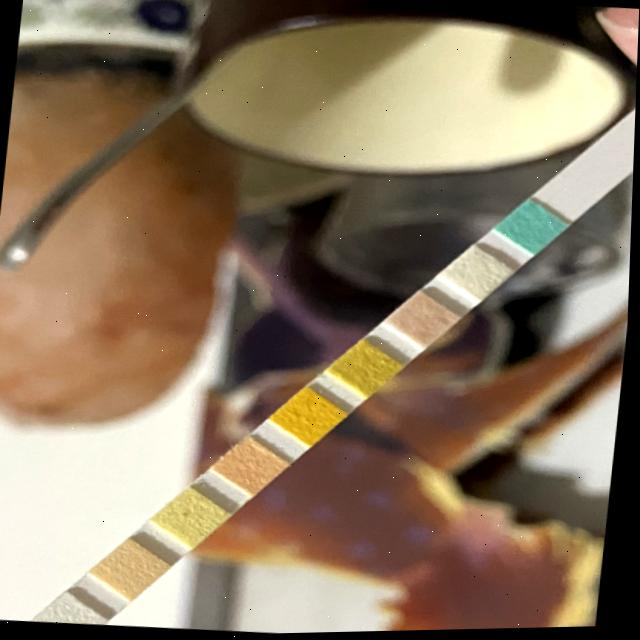Bilirubin: (453, 258, 502, 286)
Blood: (285, 402, 336, 432)
Glucose: (506, 212, 554, 242)
Ketone: (401, 306, 445, 336)
Nitrite: (45, 607, 95, 625)
Protein: (169, 502, 216, 532)
SpGravity: (344, 354, 389, 382)
Urobilinogen: (109, 550, 156, 584)
pH: (228, 450, 276, 482)
